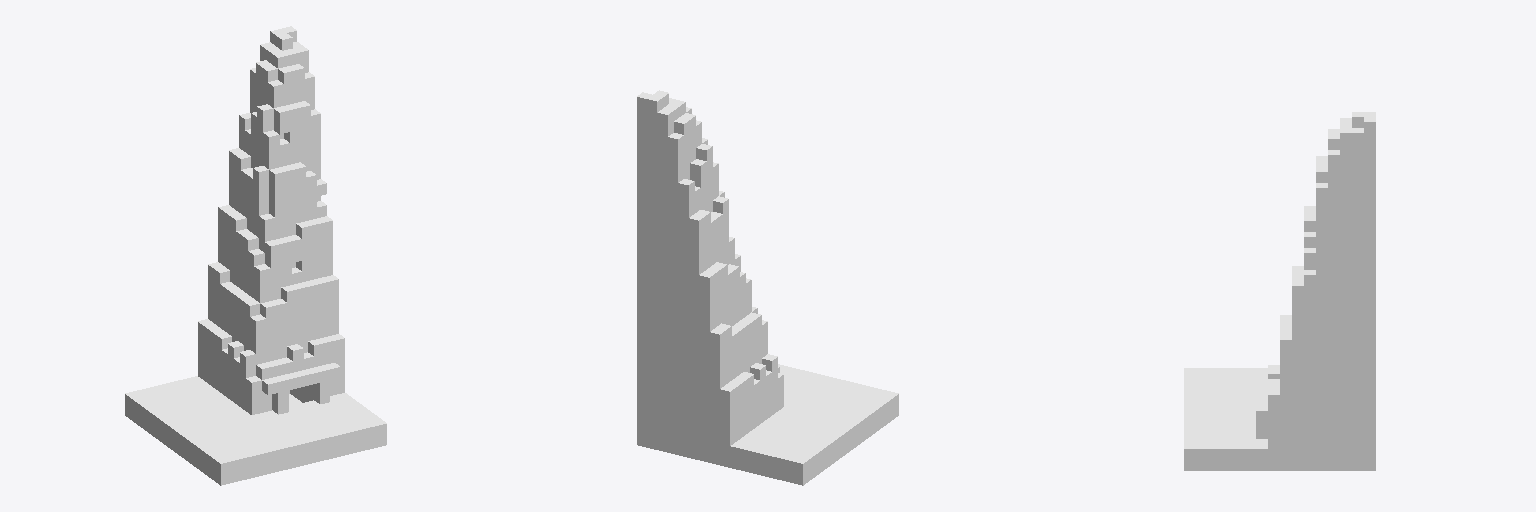
File: Mountain_road_1.obj
3 views of the same model, side by side, from view 1: azimuth 30°, elevation 25°; view 2: azimuth 150°, elevation 25°; view 3: azimuth 270°, elevation 25° (orthographic).
Parts seen in each view (by area): view 1: object 1; view 2: object 1; view 3: object 1.
Boxes of the visible parts, <box> form: object 1: <box>125,26,386,485</box>; object 1: <box>637,90,898,485</box>; object 1: <box>1184,112,1375,470</box>.
Size of the model in its own units: 1.6 by 3.2 by 1.6.